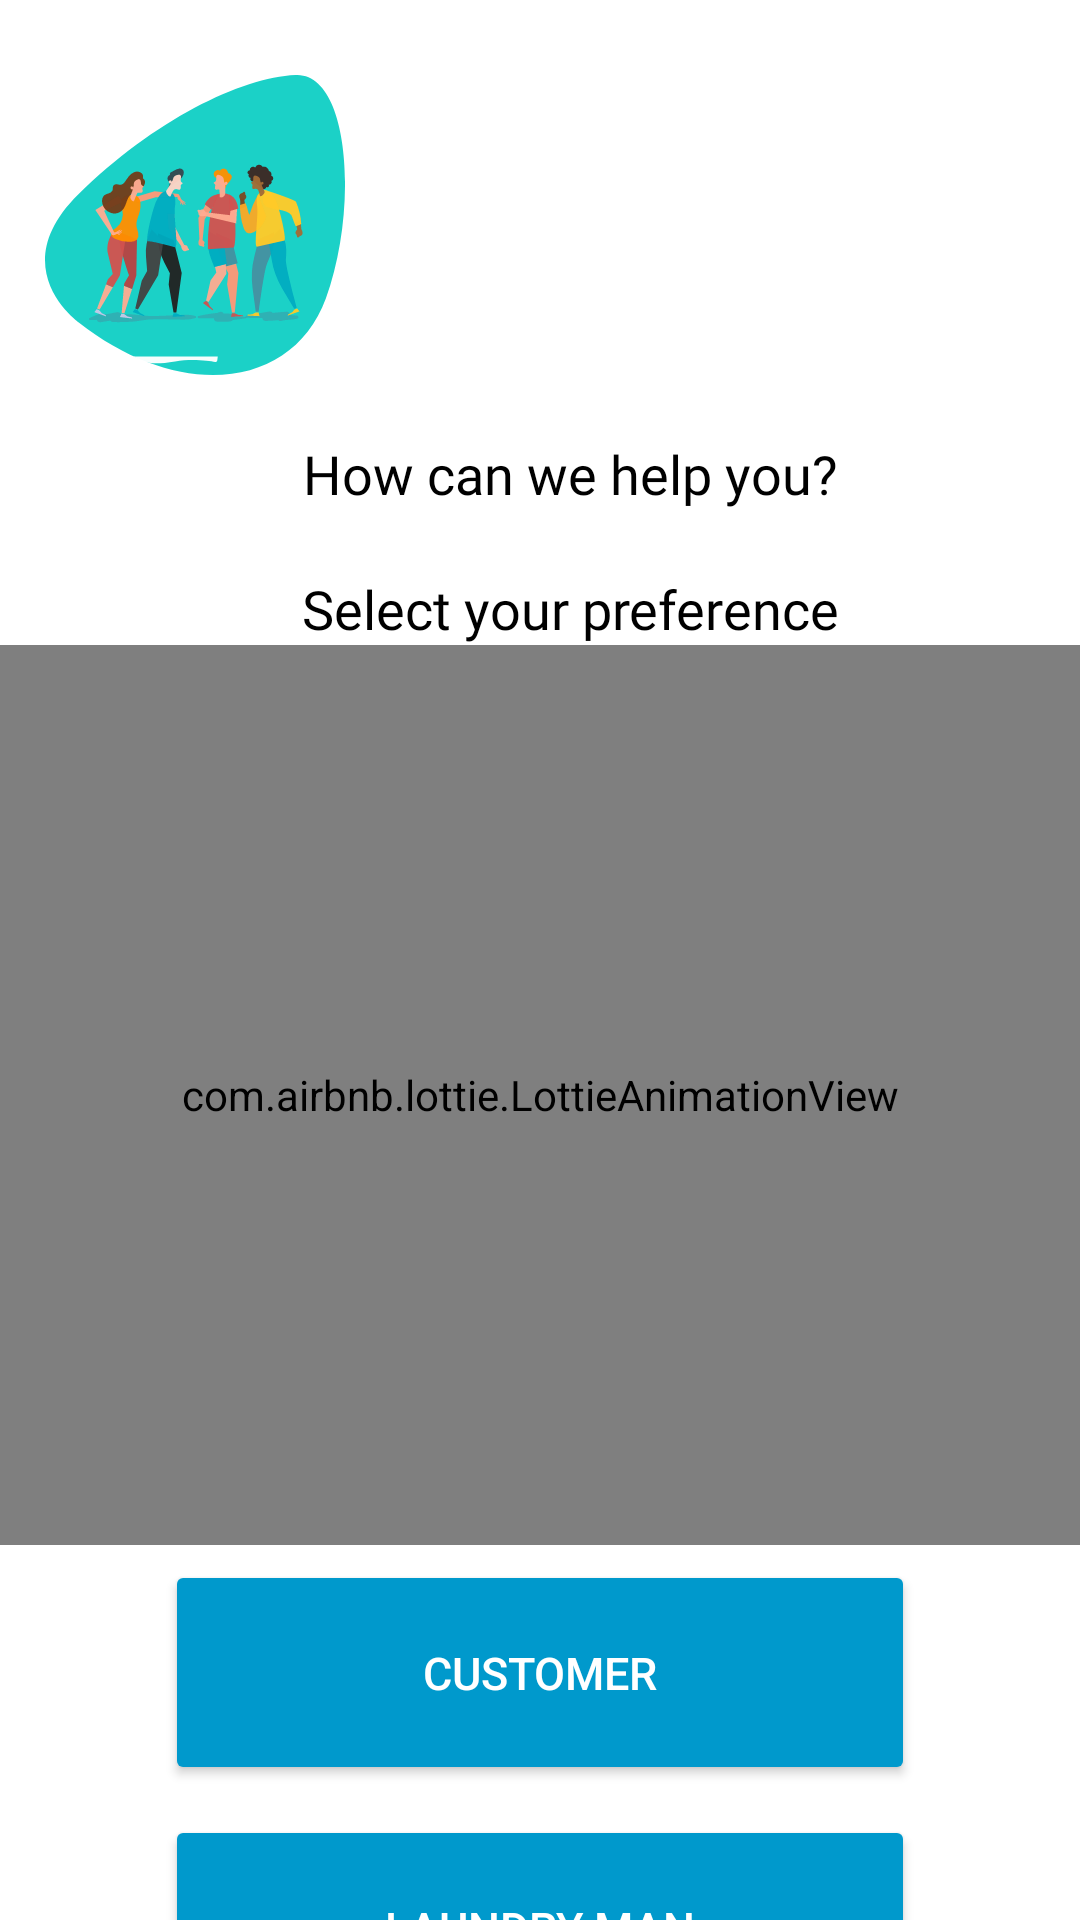

Named icons in this screenshot (1080*1920) and their bounding boxes, [x1,y1,x2,y2]:
register hero: [45,75,345,375]
